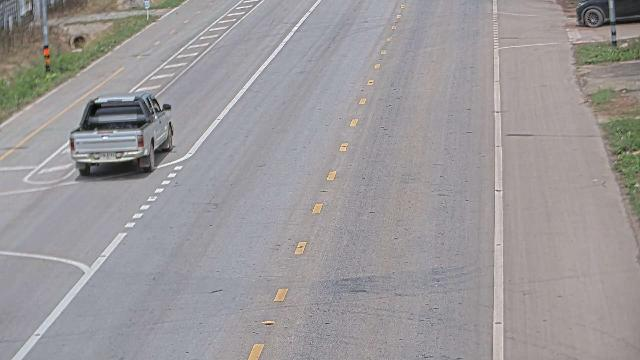pickup-truck: (68, 91, 174, 176)
